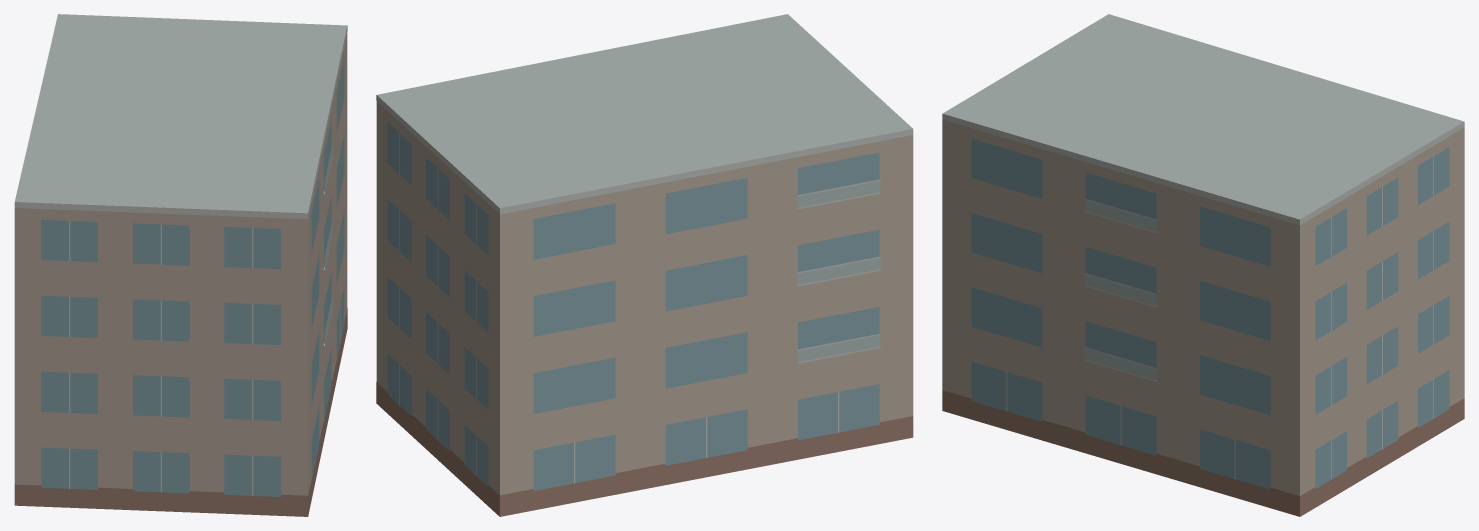
The model's file is survey-upis-32675610.glb.
3 views of the same model, side by side, from view 1: azimuth 30°, elevation 25°; view 2: azimuth 150°, elevation 25°; view 3: azimuth 270°, elevation 25° (orthographic). The views are drawn at different scales.
Visible parts, largest first — view 1: survey-upis-32675610.tmp; view 2: survey-upis-32675610.tmp; view 3: survey-upis-32675610.tmp.
Part boxes in pixels (x1,y1,x2,y2): survey-upis-32675610.tmp: (14,14,347,516); survey-upis-32675610.tmp: (376,14,913,516); survey-upis-32675610.tmp: (942,14,1464,516).
Bounding box in the file's own units: 18.44 × 12.42 × 19.78.
